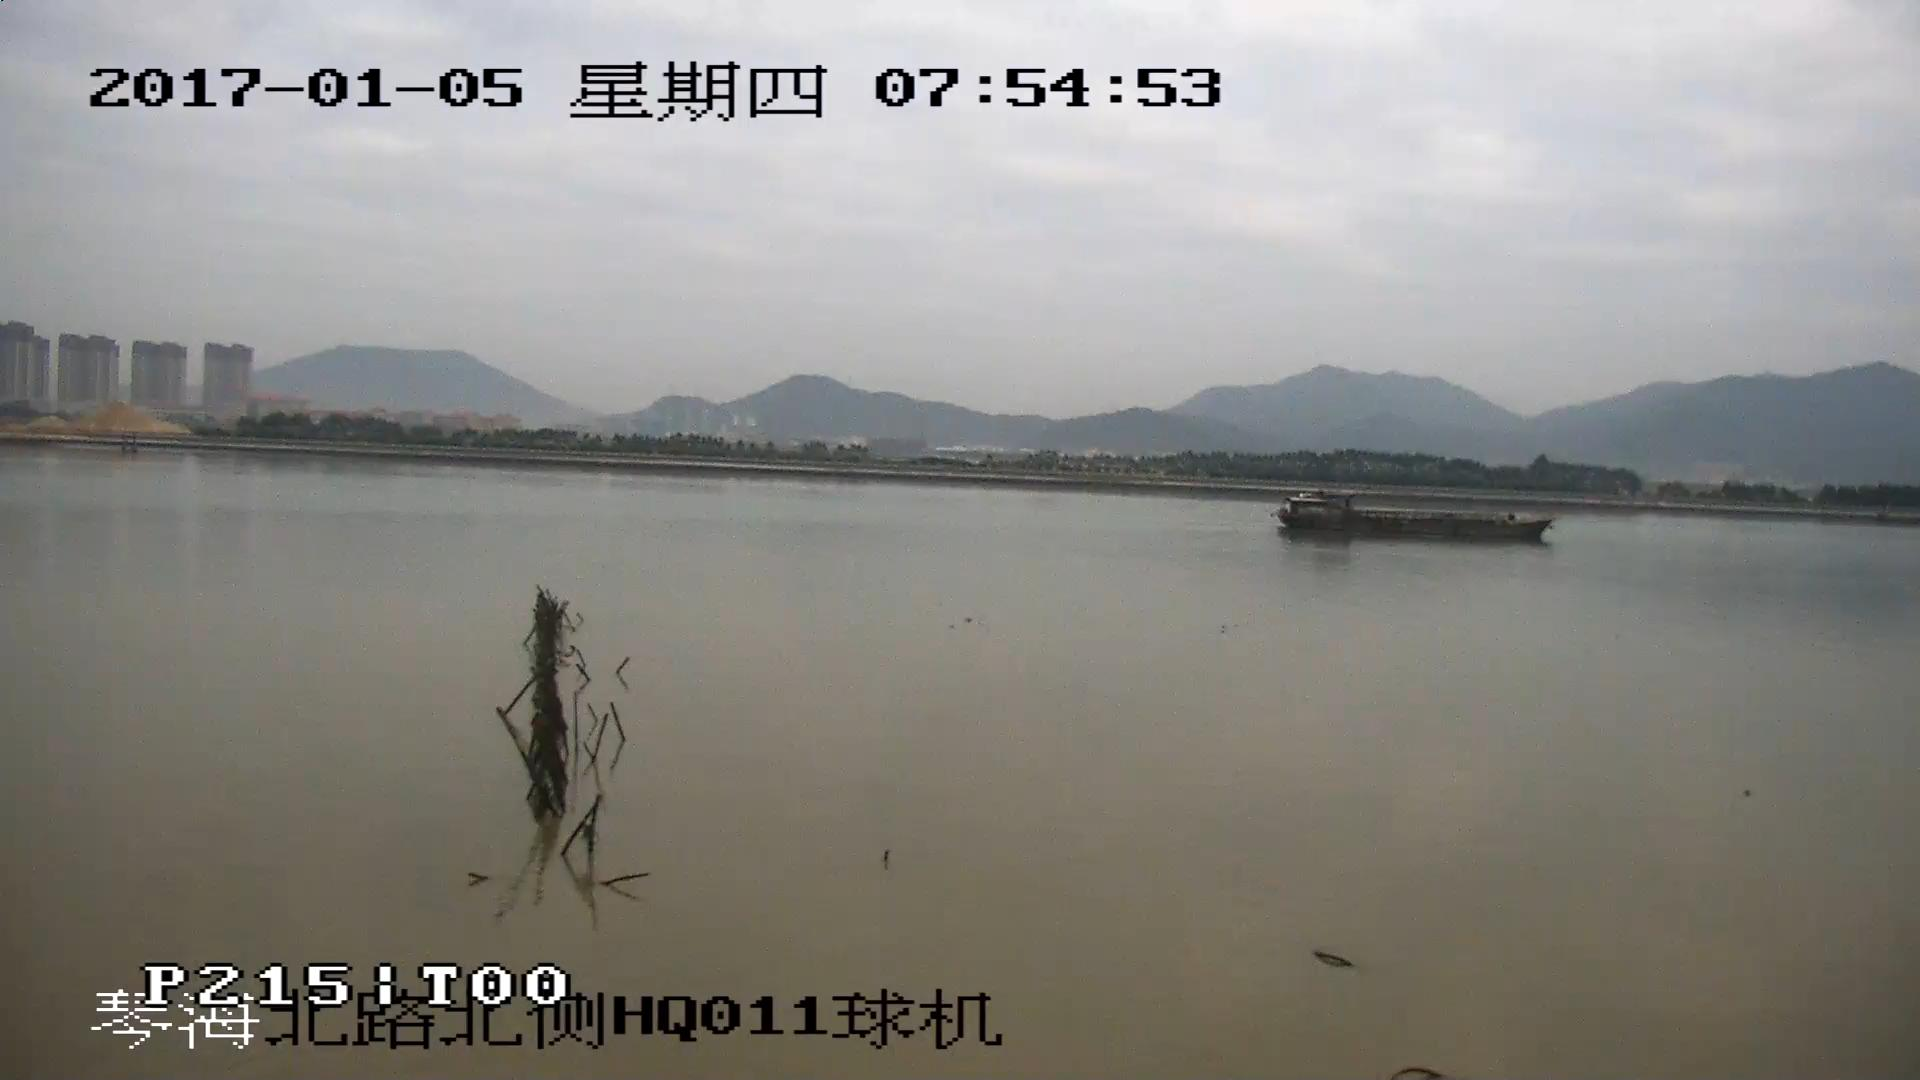bulk cargo carrier: (1273, 491, 1554, 541)
